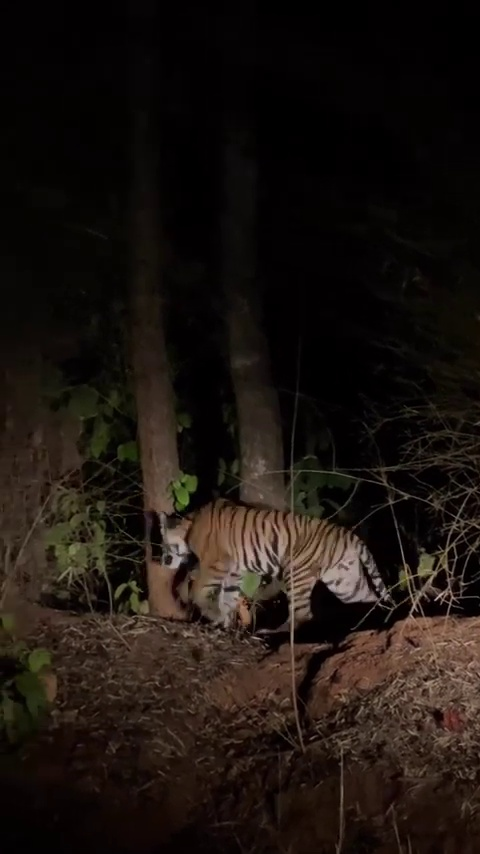Tiger: (157, 494, 396, 638)
